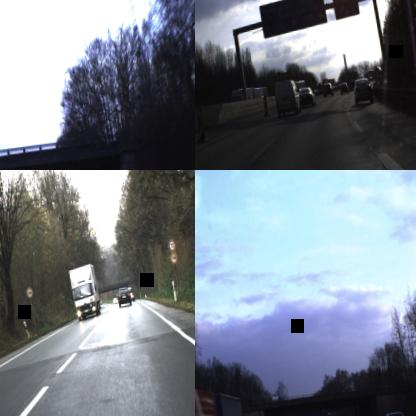no overtaking (trucks): (168, 251, 178, 264), (25, 286, 33, 298)
speed limit 70: (166, 238, 176, 251)
